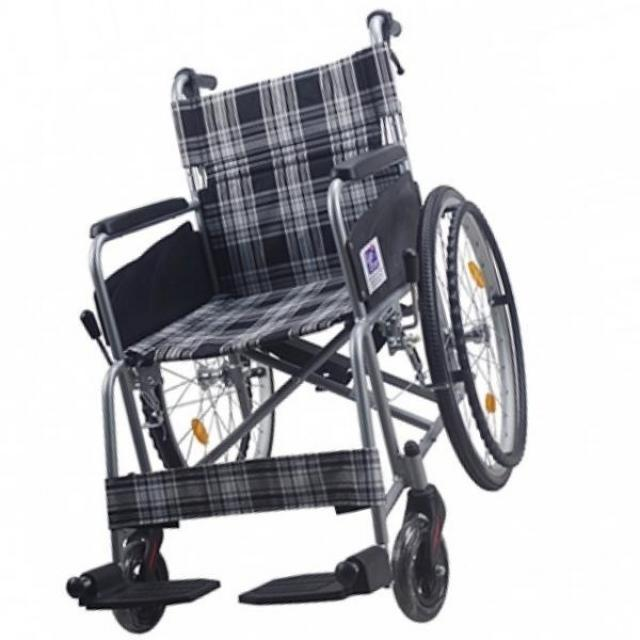wheelchair: (60, 0, 542, 640)
